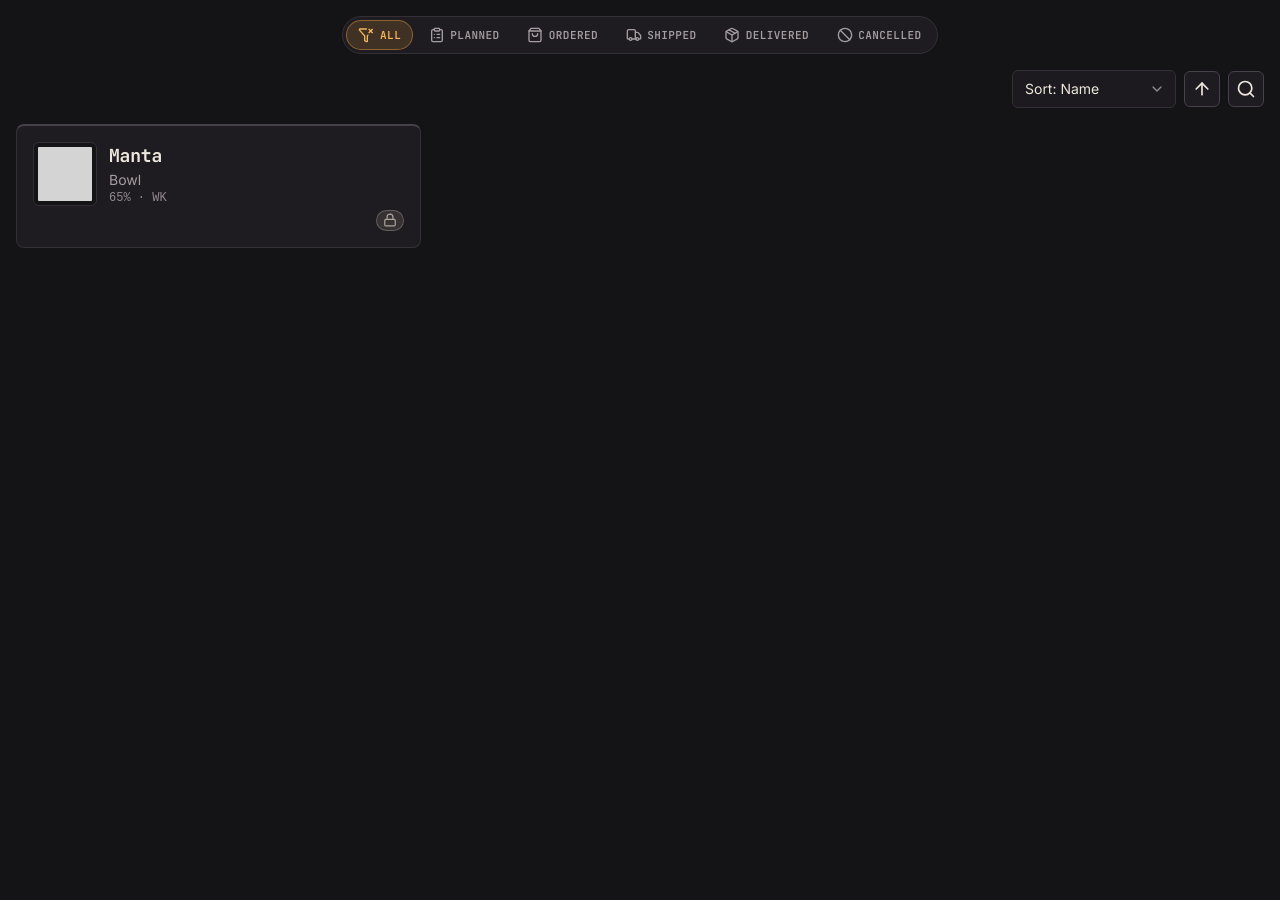
Test case: keyboards page › hides adding, editing, deleting, and private sorts from visitors
Click the button "Manta Bowl 65% · WK" at (65, 174), box x1=16 y1=124 x2=421 y2=248
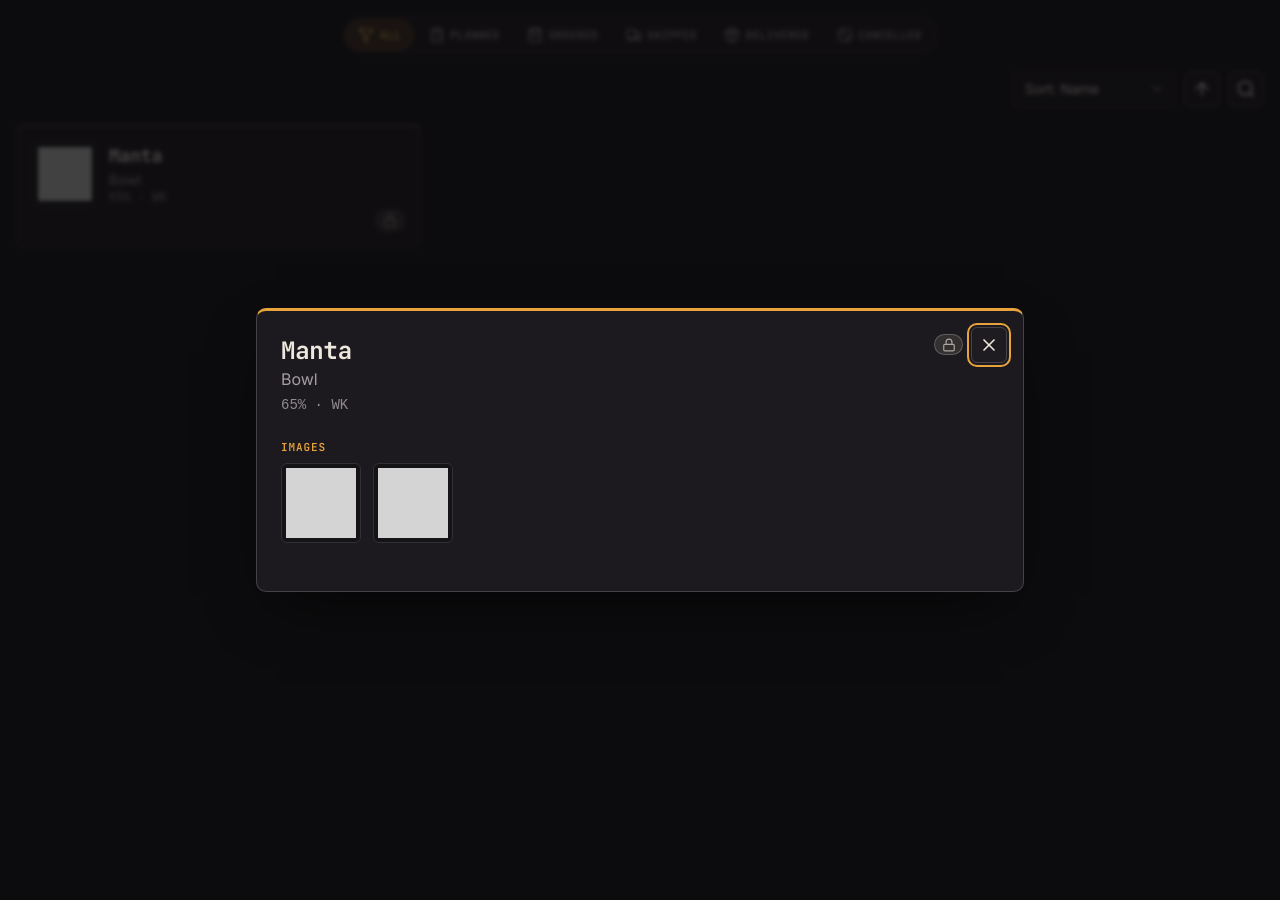
Result: the dialog "Manta Bowl 65% · WK Images" is shown at x1=256 y1=308 x2=1024 y2=592
